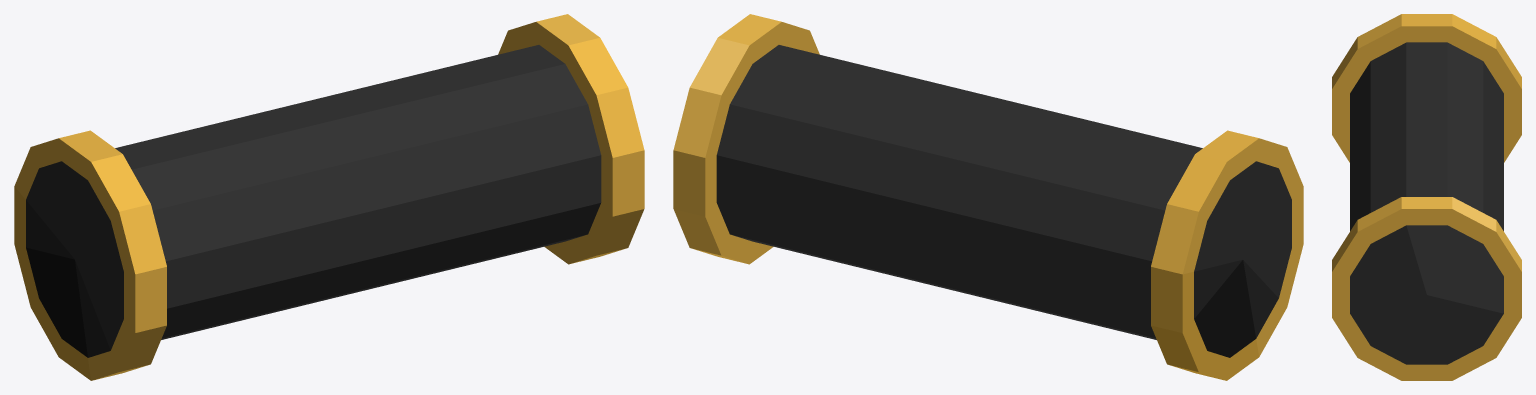
Rendered from pipe.fbx.
The picture shows the model from 3 angles, left to right: view 1: azimuth 30°, elevation 25°; view 2: azimuth 150°, elevation 25°; view 3: azimuth 270°, elevation 25°; orthographic projection. The views are drawn at different scales.
Visible parts, largest first — view 1: cylinder; view 2: cylinder; view 3: cylinder.
Part boxes in pixels (box(x1,y1,x2,y2)): cylinder: box(14, 14, 644, 380); cylinder: box(673, 14, 1303, 380); cylinder: box(1332, 14, 1521, 380).
Size of the model in its own units: 300 by 123 by 123.
1 material, 1 textured.
